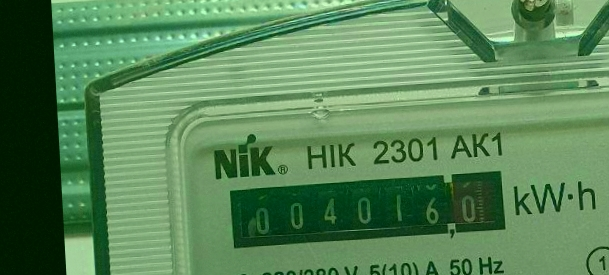0: (353, 191, 376, 227), (251, 202, 274, 236), (286, 197, 307, 232), (457, 191, 479, 224)
1: (391, 189, 407, 223)
4: (320, 192, 340, 227)
6: (421, 192, 442, 225)
screen: (222, 163, 515, 256)
